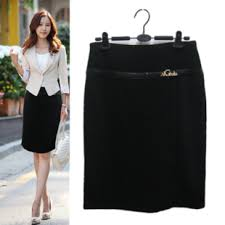F_tailored skirt: (77, 33, 215, 217), (17, 82, 65, 158)
